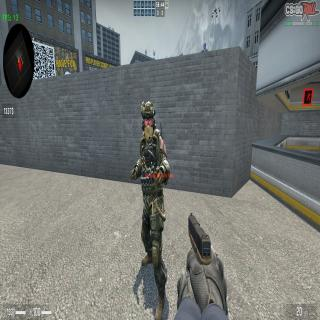CT-Body: (130, 100, 170, 320)
CT-Head: (141, 100, 156, 142)
